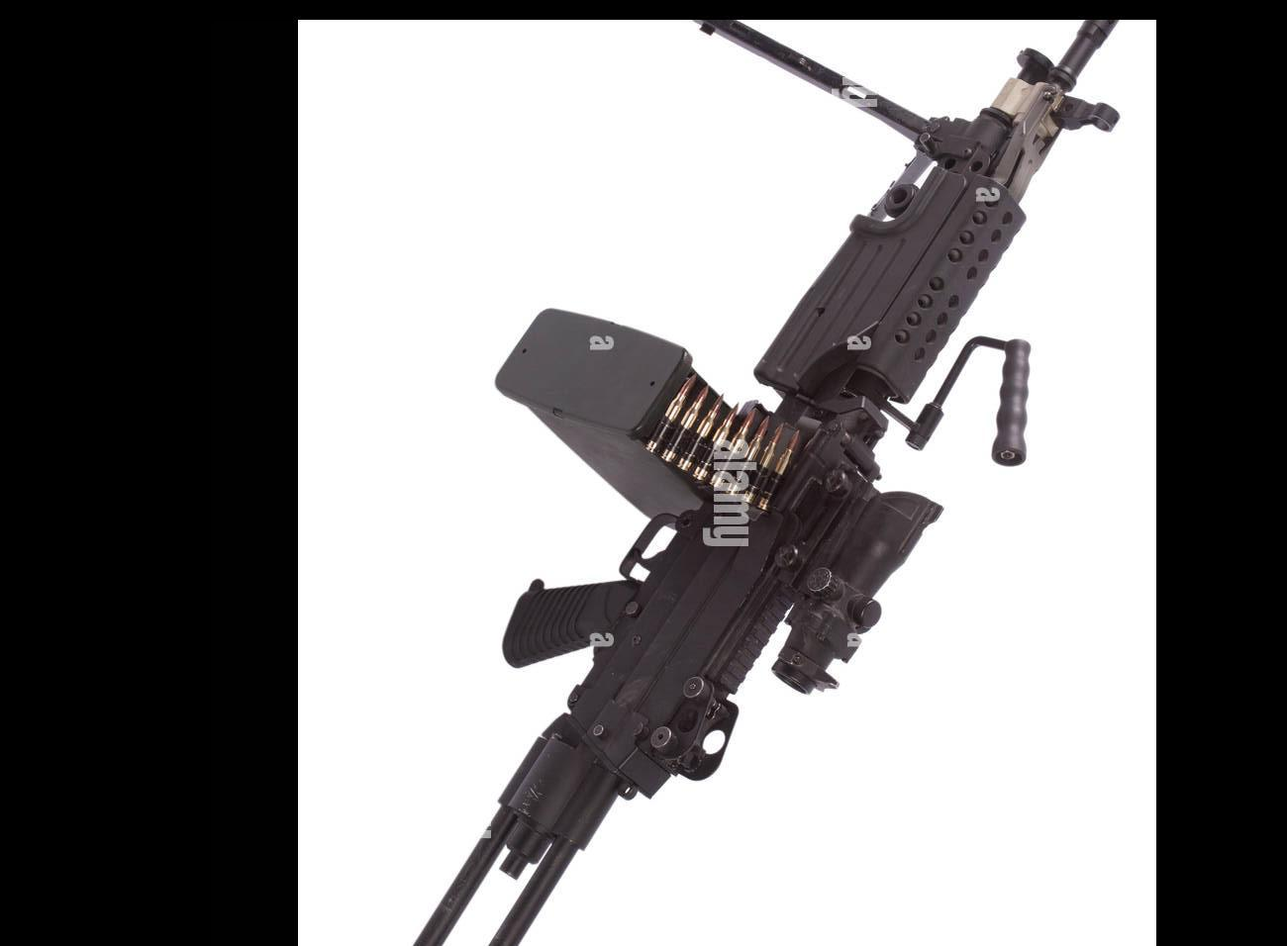larga: (415, 18, 1120, 946)
